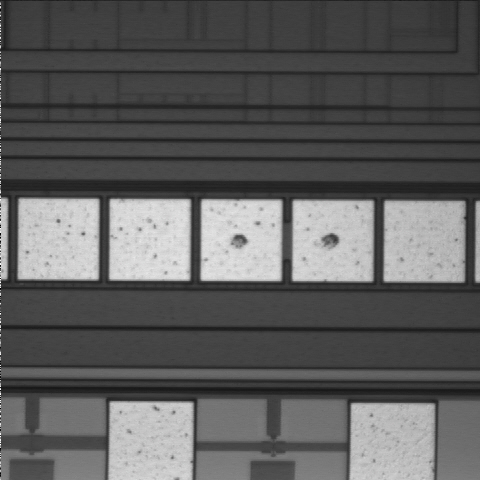pad: (201, 200, 282, 281), (18, 199, 99, 279), (110, 199, 190, 280), (293, 201, 373, 281), (384, 201, 463, 281)
